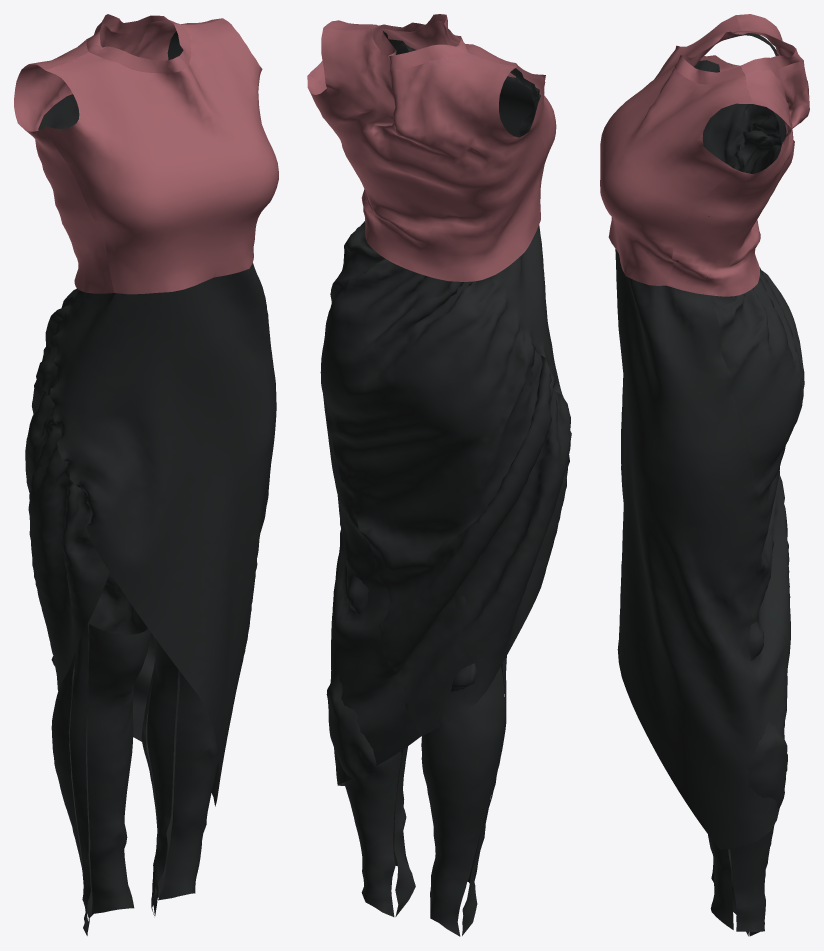
Rendered from First_dress_refit.glb.
3 renders of one model, left to right at view 1: azimuth 30°, elevation 25°; view 2: azimuth 150°, elevation 25°; view 3: azimuth 270°, elevation 25°, orthographic.
Parts seen in each view (by area): view 1: Garment; view 2: Garment; view 3: Garment.
Boxes of the visible parts, x1,y1,x2,y2 form: Garment: [14, 14, 278, 935]; Garment: [307, 14, 571, 936]; Garment: [600, 14, 809, 936].
Bounding box in the file's own units: 0.3792 × 1.37 × 0.2954.
1 material, 1 textured.
